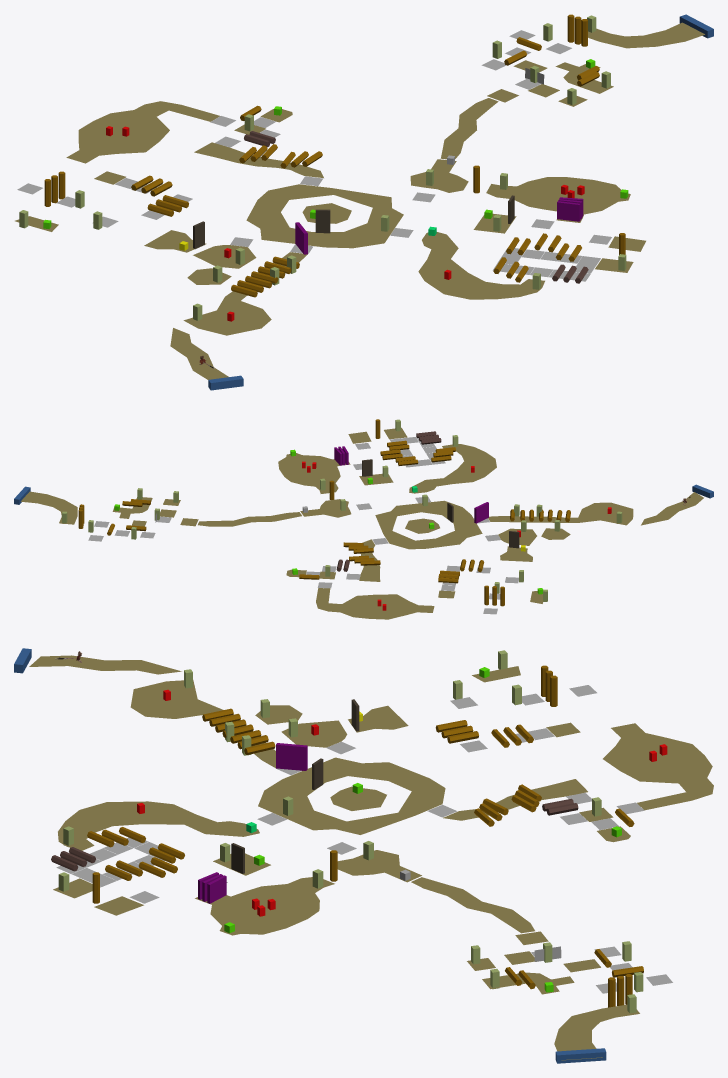
Rendered from blocking_level_2_firepath_v1.fbx.
The picture shows the model from 3 angles, top to bottom: view 1: azimuth 30°, elevation 25°; view 2: azimuth 150°, elevation 25°; view 3: azimuth 270°, elevation 25°; orthographic projection. The views are drawn at different scales.
Parts seen in each view (by area): view 1: path_mountain5, path_mountain10, path_mountain19, path_mountain15, path_mountain2, path_mountain26, path_mountain20, path_mountain13, path_mountain1, path_mountain14, path_mountain4, path_mountain7 (+1 smaller); view 2: path_mountain5, path_mountain10, path_mountain15, path_mountain19, path_mountain2, path_mountain26, path_mountain20, path_mountain1, path_mountain14, path_mountain13, path_mountain6, path_mountain7 (+1 smaller); view 3: path_mountain5, path_mountain10, path_mountain15, path_mountain19, path_mountain2, path_mountain26, path_mountain20, path_mountain1, path_mountain14, path_mountain4, path_mountain13, path_mountain6 (+4 smaller).
Part boxes in pixels (x1,y1,x2,y2): path_mountain5: (246,184,403,248); path_mountain10: (66,101,219,163); path_mountain19: (418,232,544,299); path_mountain15: (486,177,630,222); path_mountain2: (183,252,307,335); path_mountain26: (588,22,704,48); path_mountain20: (440,98,498,159); path_mountain13: (194,142,323,177); path_mountain1: (170,328,228,379); path_mountain14: (410,159,468,192); path_mountain4: (193,245,256,268); path_mountain7: (144,230,206,252); path_mountain5: (375,500,482,549); path_mountain10: (316,588,434,619); path_mountain15: (278,453,350,493); path_mountain19: (409,444,496,493); path_mountain2: (488,502,633,525); path_mountain26: (21,491,77,524); path_mountain20: (198,512,301,526); path_mountain1: (641,492,703,525); path_mountain14: (300,499,351,517); path_mountain13: (359,539,380,581); path_mountain6: (405,518,439,533); path_mountain7: (500,546,532,561); path_mountain5: (258,757,445,834); path_mountain10: (603,723,713,810); path_mountain15: (195,877,334,935); path_mountain19: (58,801,259,850); path_mountain2: (130,680,275,768); path_mountain26: (554,1004,639,1060); path_mountain20: (411,877,534,933); path_mountain1: (29,655,181,674); path_mountain14: (337,850,421,882); path_mountain4: (281,720,347,747); path_mountain13: (443,779,587,820); path_mountain6: (330,786,386,810).
Size of the model in its own units: 105 by 3.6 by 76.02.
